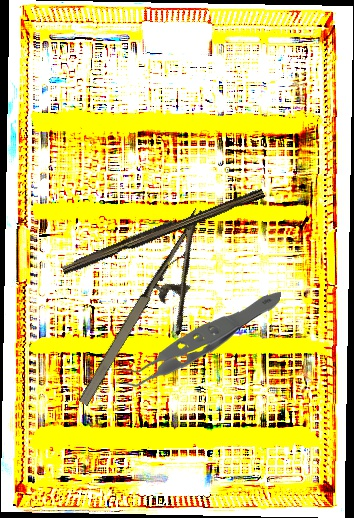Needle Holder: (72, 207, 243, 427)
Scalpel Handle: (59, 182, 266, 278)
Tissue Forceps: (110, 284, 281, 392)
